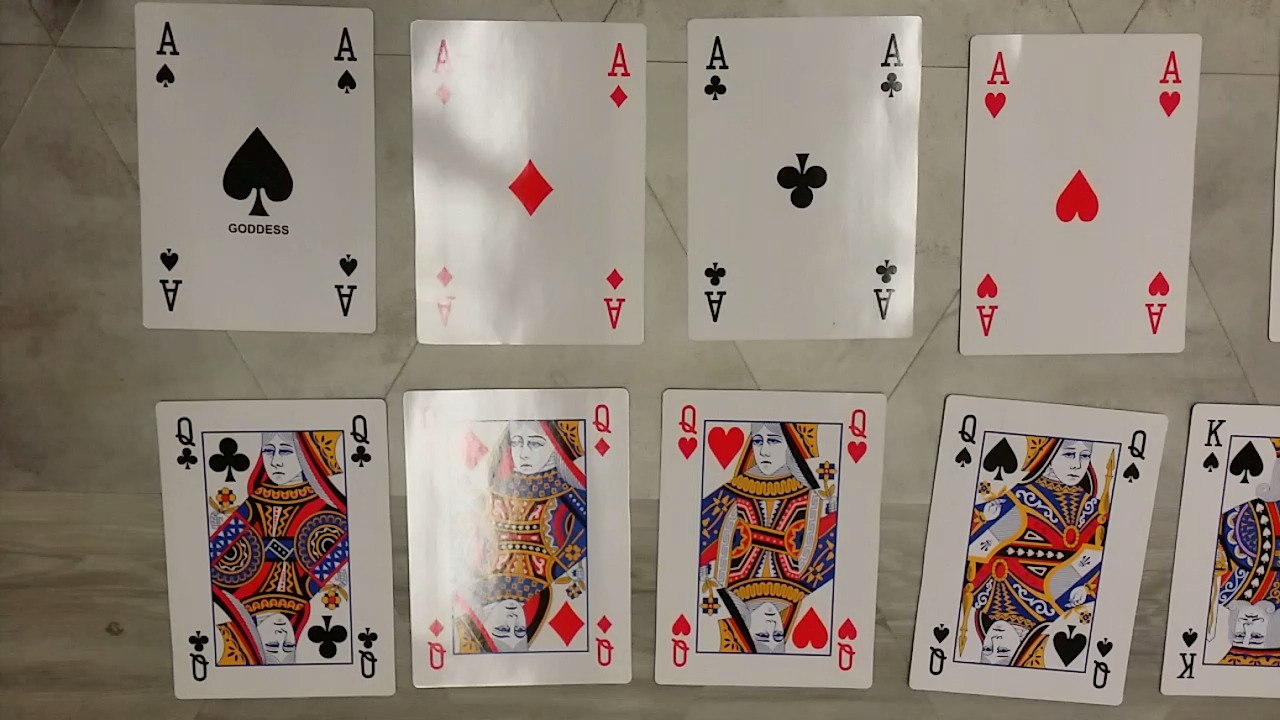1_club: (683, 15, 921, 337)
1_diamond: (410, 17, 643, 345)
1_heart: (957, 34, 1203, 355)
1_spade: (132, 0, 379, 339)
king_spade: (1150, 404, 1280, 696)
queen_club: (157, 397, 397, 699)
queen_diamond: (401, 385, 632, 689)
queen_heart: (649, 385, 886, 686)
queen_spade: (904, 390, 1173, 714)
